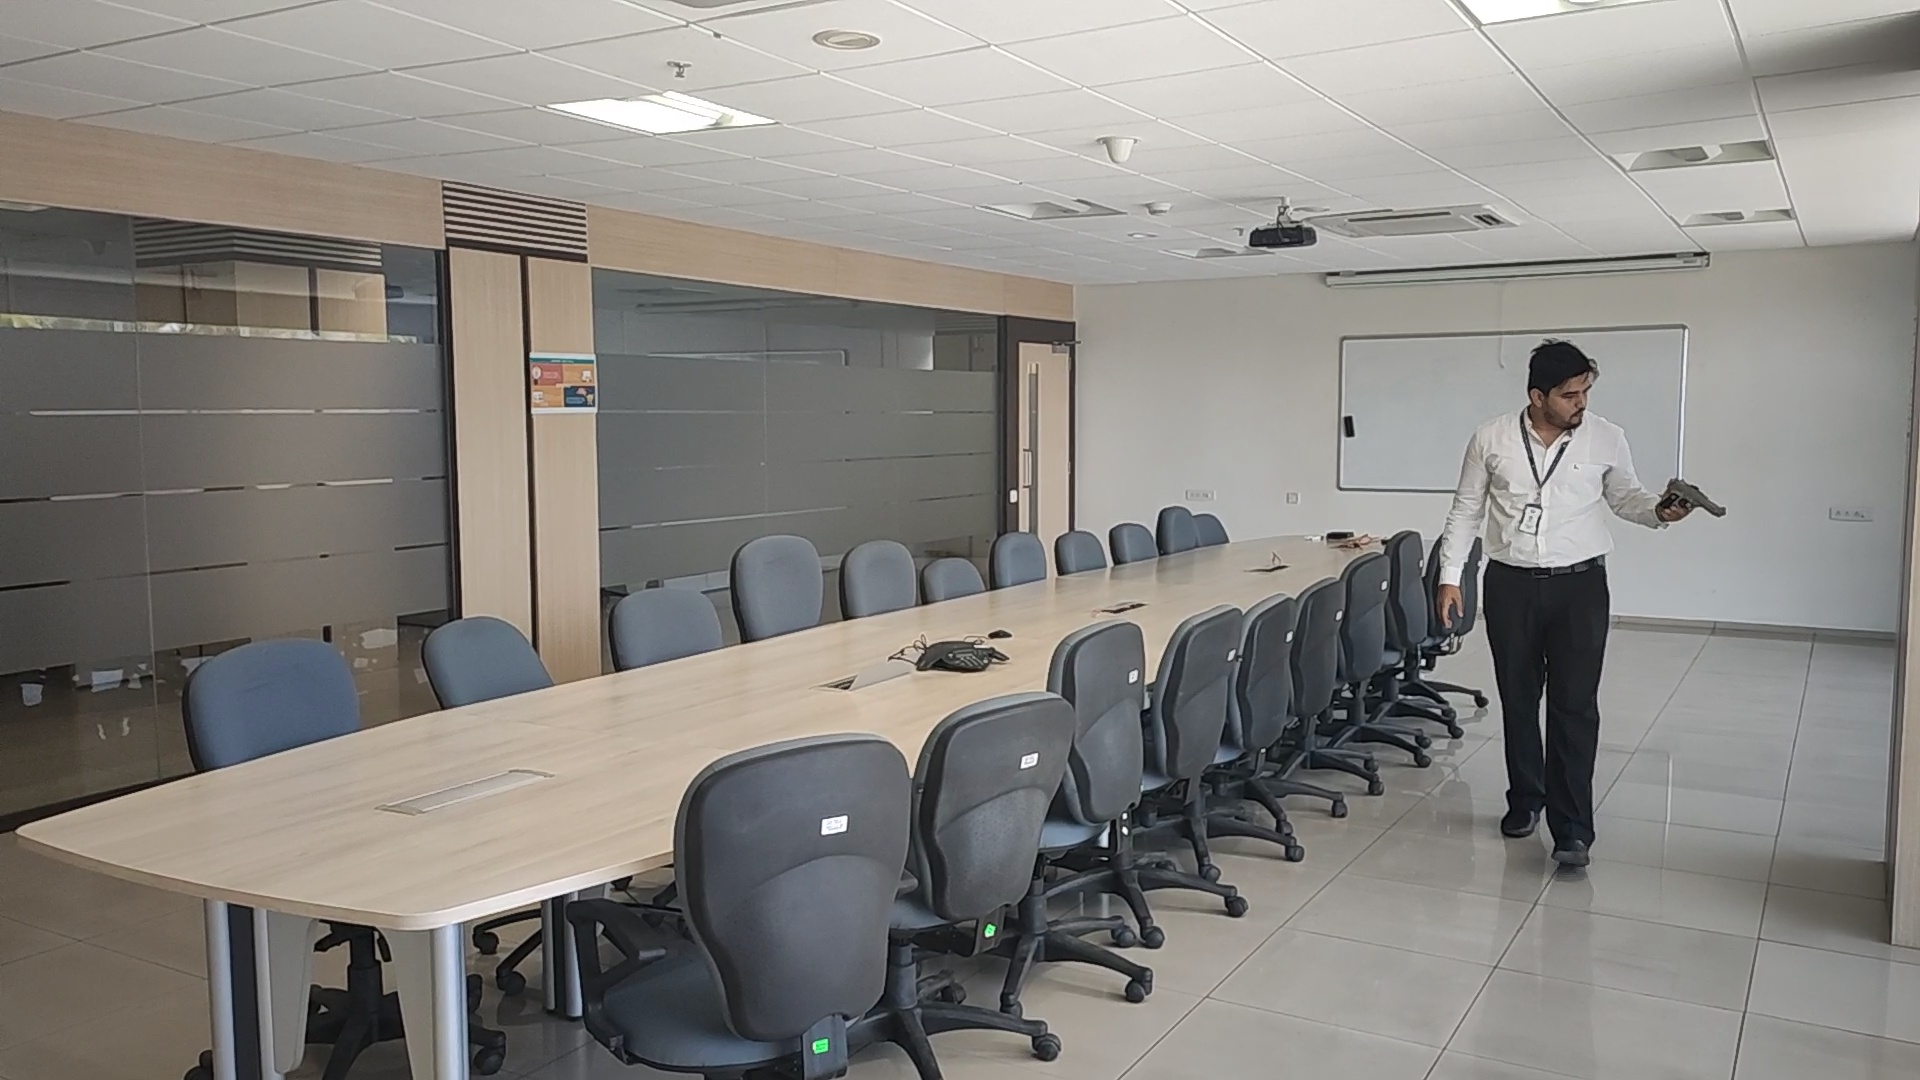gun: (1673, 477, 1727, 520)
